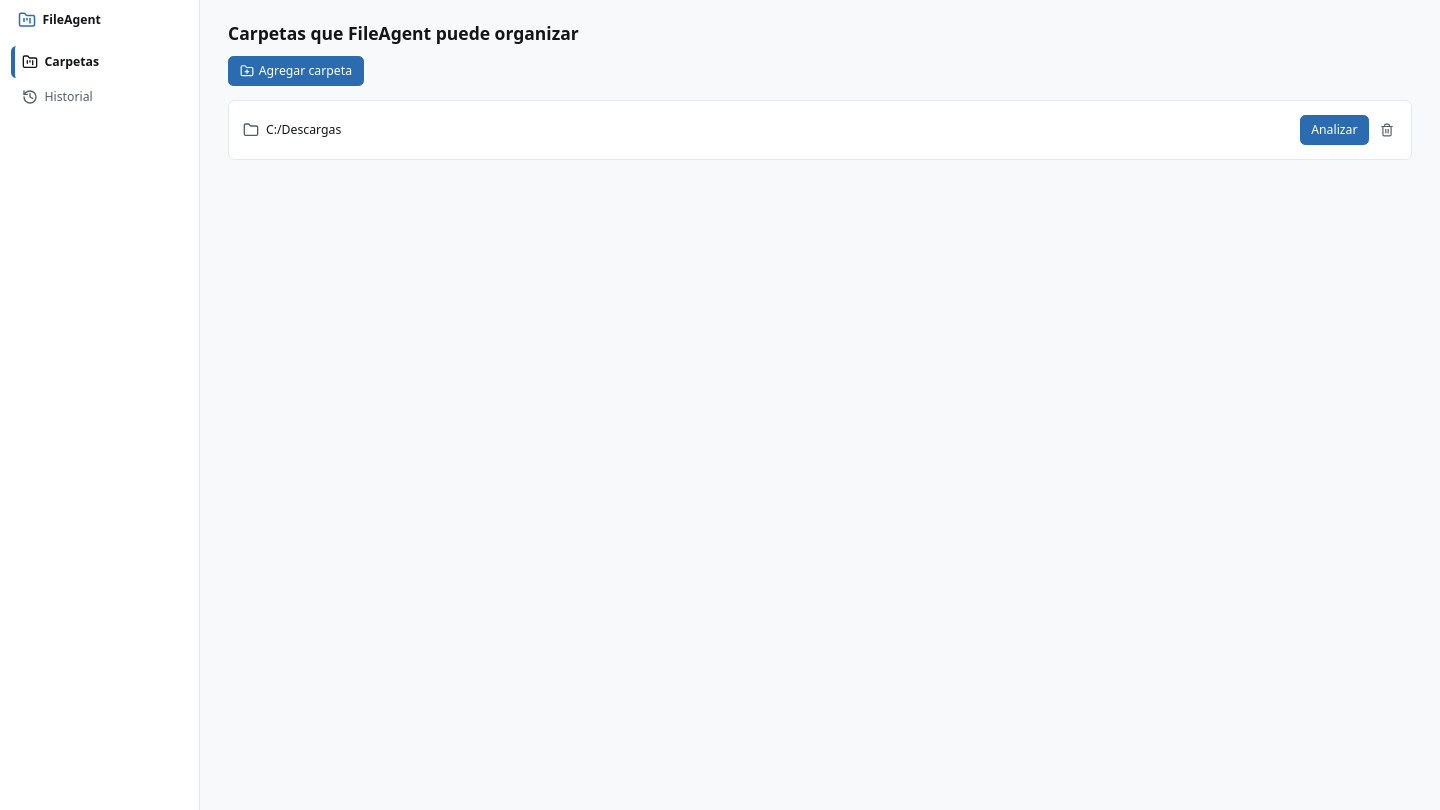
Test: App -- destination setup cross-navigation lifecycle (FA-017.2) › a prepare completion arriving after the user has navigated away is handled exactly once, without crashing or forcing navigation
Click the button "Analizar" at (1334, 130), box left=1300, top=115, right=1369, bottom=145
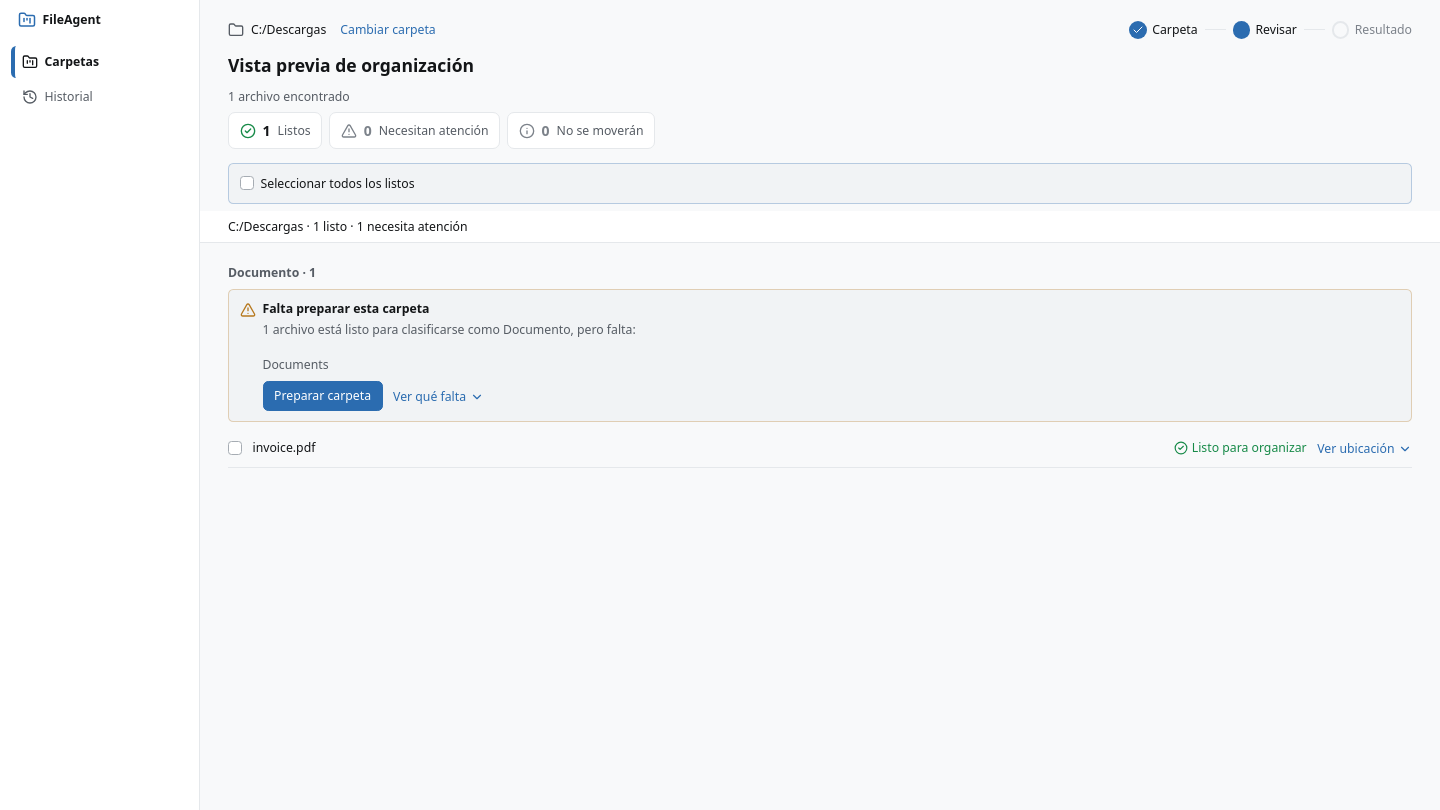
Click the button "Preparar carpeta" at (322, 396), box left=262, top=380, right=382, bottom=410
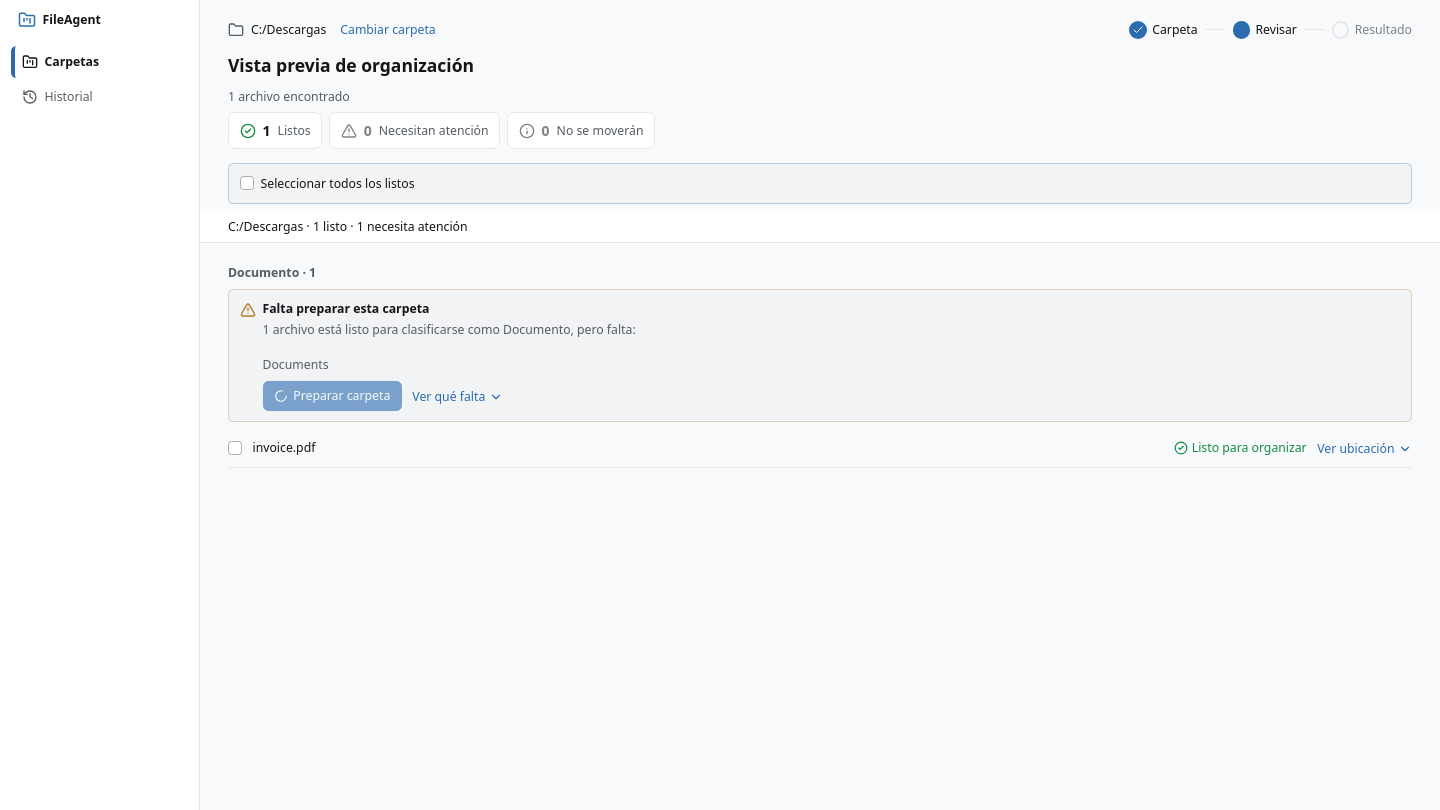
Click the button "Historial" at (100, 97), box left=10, top=81, right=188, bottom=112
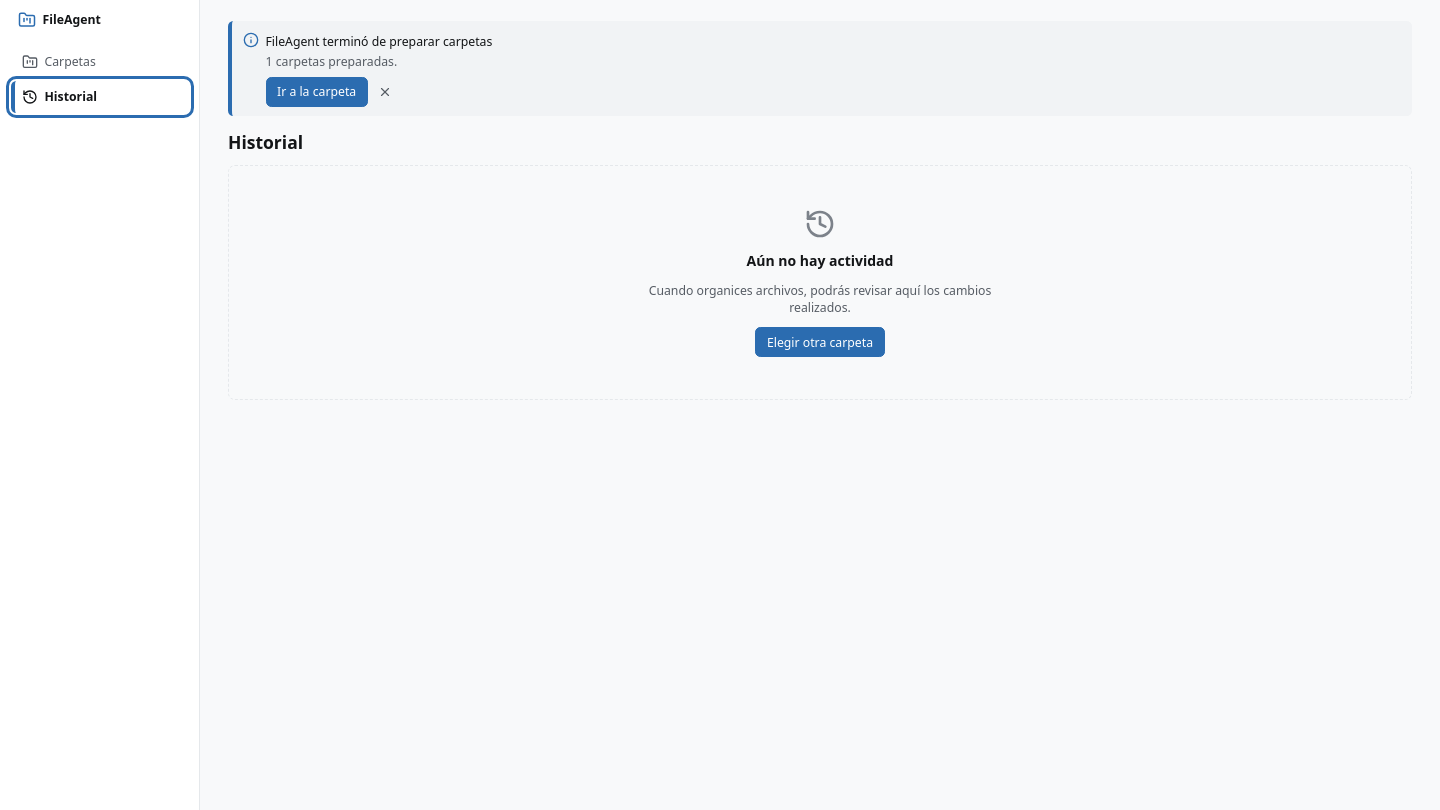
Now the heading "Historial" is shown, box left=228, top=130, right=303, bottom=154
